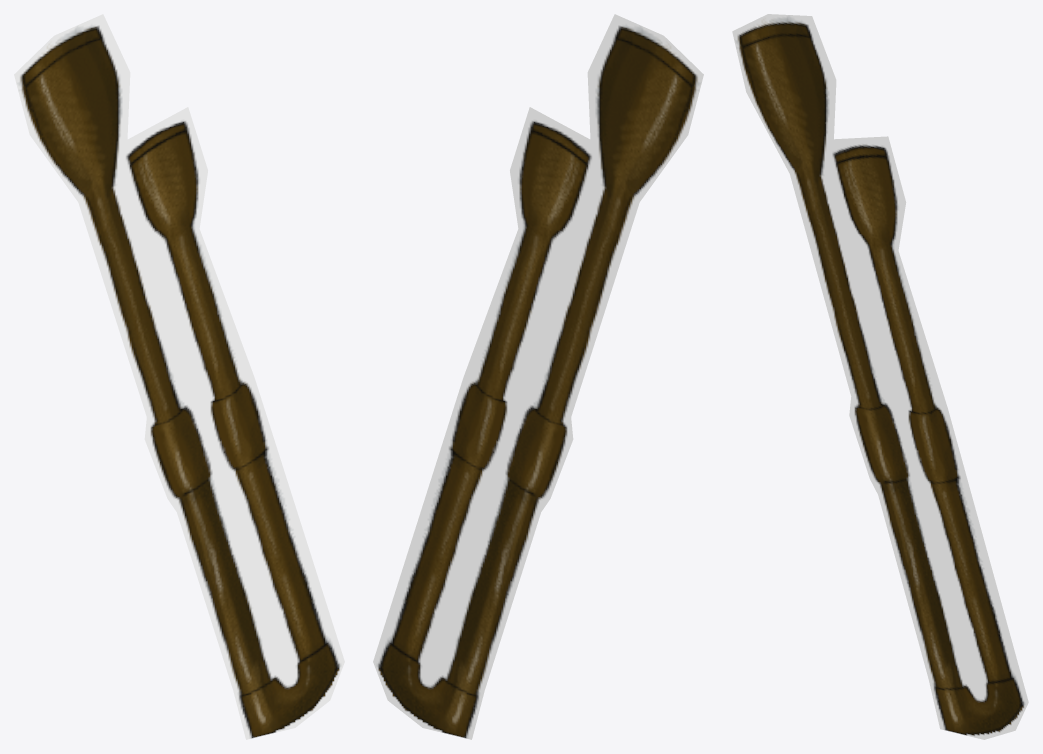
The picture shows the model from 3 angles, left to right: view 1: azimuth 30°, elevation 25°; view 2: azimuth 150°, elevation 25°; view 3: azimuth 330°, elevation 25°; orthographic projection. The views are drawn at different scales.
Visible parts, largest first — view 1: Plane; view 2: Plane; view 3: Plane.
Boxes of the visible parts, x1,y1,x2,y2 form: Plane: [14, 14, 344, 739]; Plane: [373, 14, 703, 739]; Plane: [732, 14, 1028, 739].
Size of the model in its own units: 1.87 by 4.12 by 0.
1 material, 1 textured.
